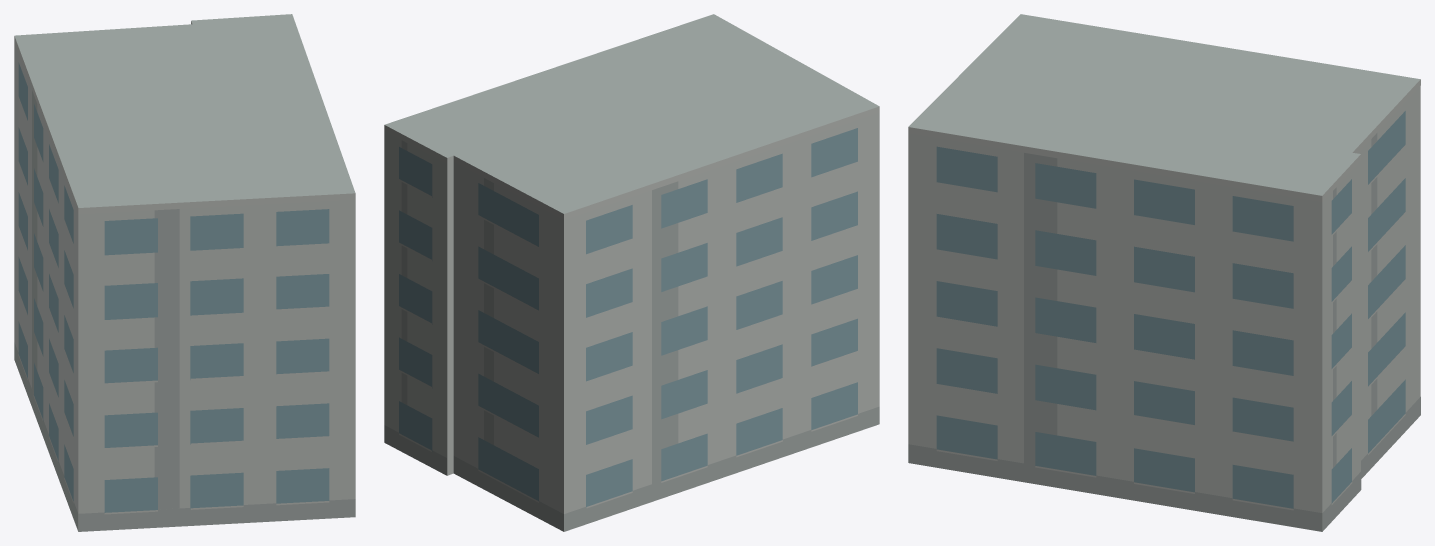
Rendered from survey-upis-32667118.glb.
The picture shows the model from 3 angles, left to right: view 1: azimuth 30°, elevation 25°; view 2: azimuth 150°, elevation 25°; view 3: azimuth 270°, elevation 25°; orthographic projection. The views are drawn at different scales.
Visible parts, largest first — view 1: survey-upis-32667118.tmp; view 2: survey-upis-32667118.tmp; view 3: survey-upis-32667118.tmp.
Boxes of the visible parts, x1=… form: survey-upis-32667118.tmp: x1=14, y1=14, x2=355, y2=531; survey-upis-32667118.tmp: x1=384, y1=14, x2=879, y2=531; survey-upis-32667118.tmp: x1=908, y1=14, x2=1420, y2=531.
Bounding box in the file's own units: 14.52 × 12.5 × 17.29.
